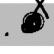not correct: (21, 0, 50, 35)
